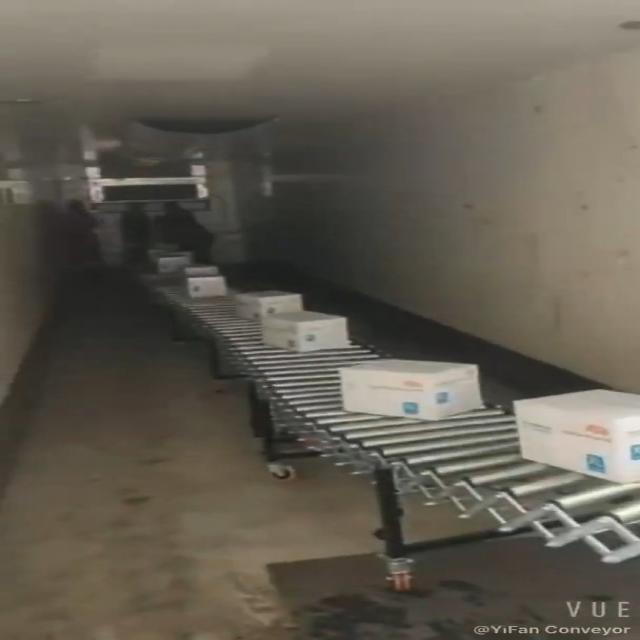Convoyeur: (143, 248, 640, 563)
